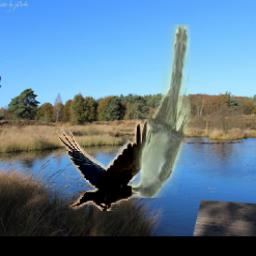Crow: (56, 119, 153, 211)
Cuckoo: (133, 25, 192, 199)
